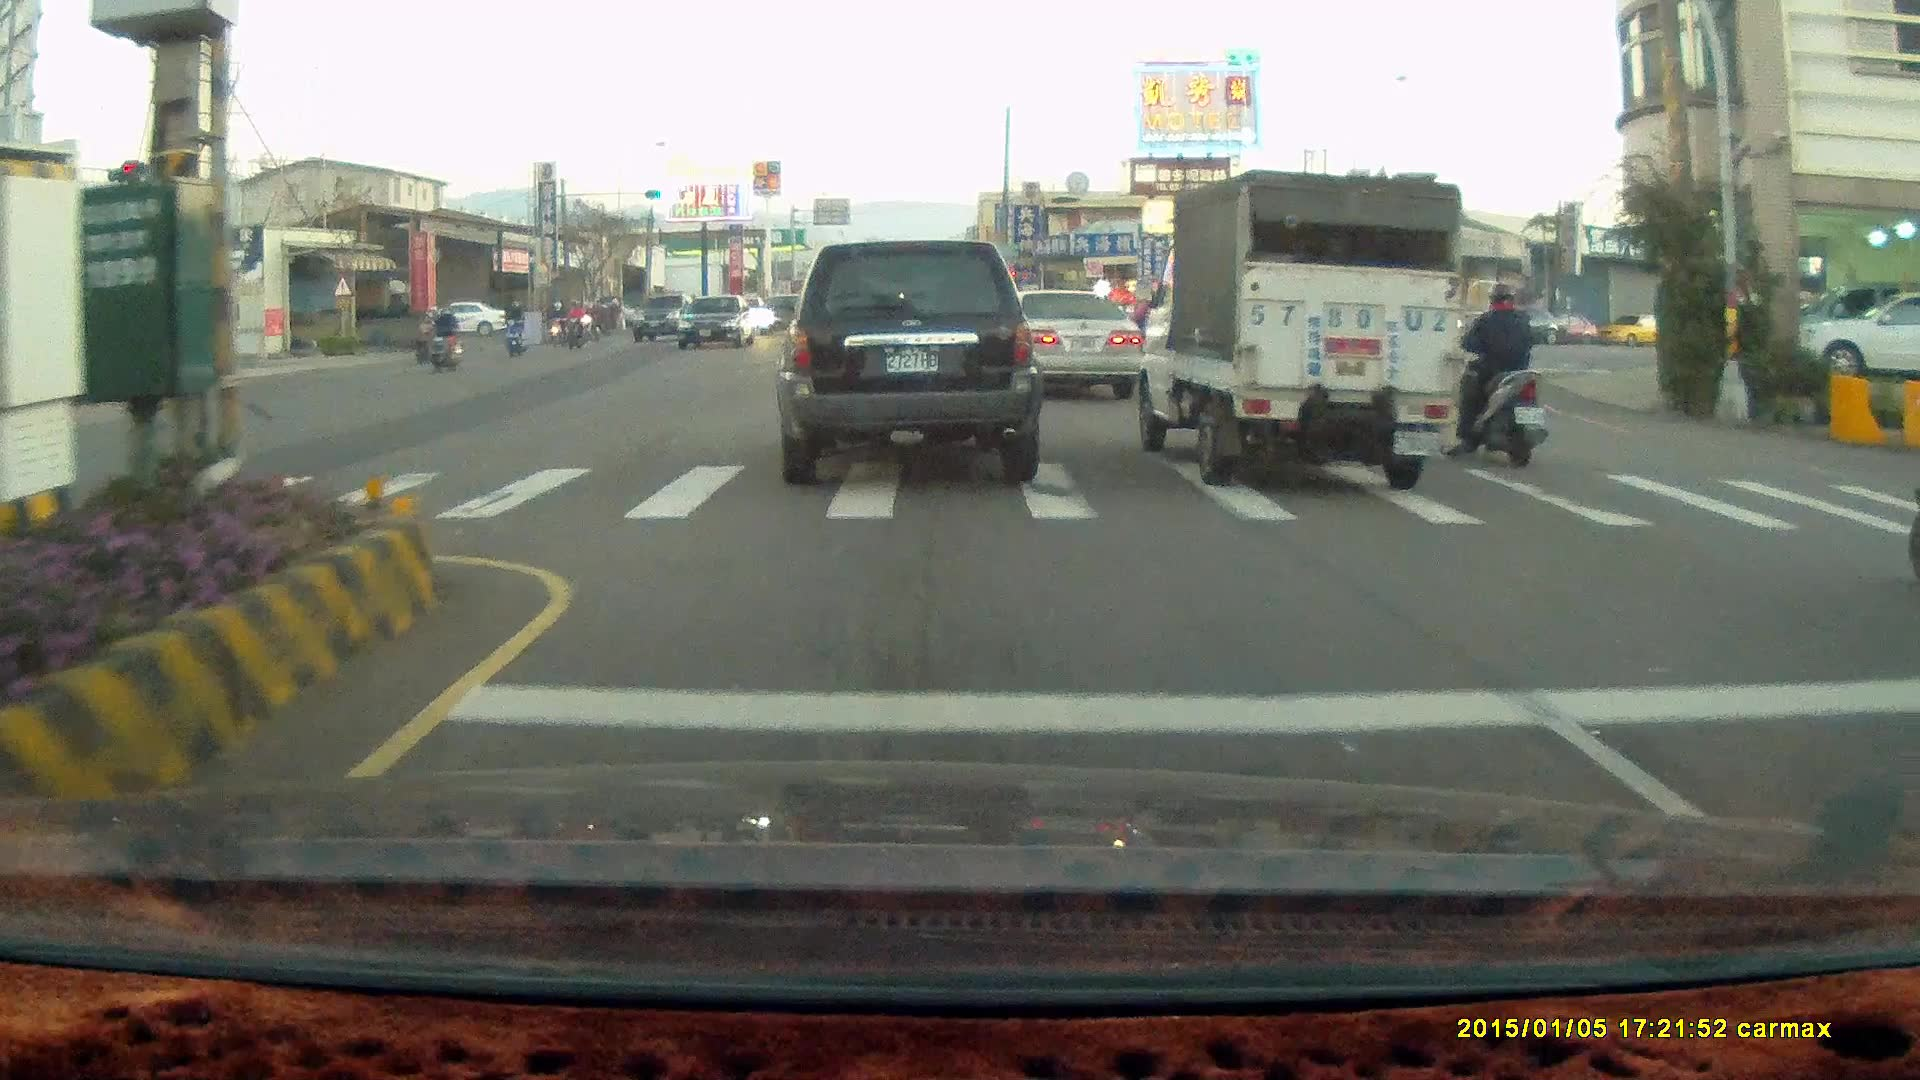rider: (1439, 280, 1549, 474), (431, 306, 464, 370), (499, 298, 526, 357), (562, 297, 590, 350), (543, 298, 570, 346)
vehicle: (1132, 167, 1461, 486), (774, 237, 1045, 484), (990, 288, 1138, 398), (1015, 290, 1144, 403), (1795, 290, 1920, 385), (42, 314, 139, 397), (676, 294, 757, 353), (1464, 308, 1571, 347), (433, 302, 509, 340)
